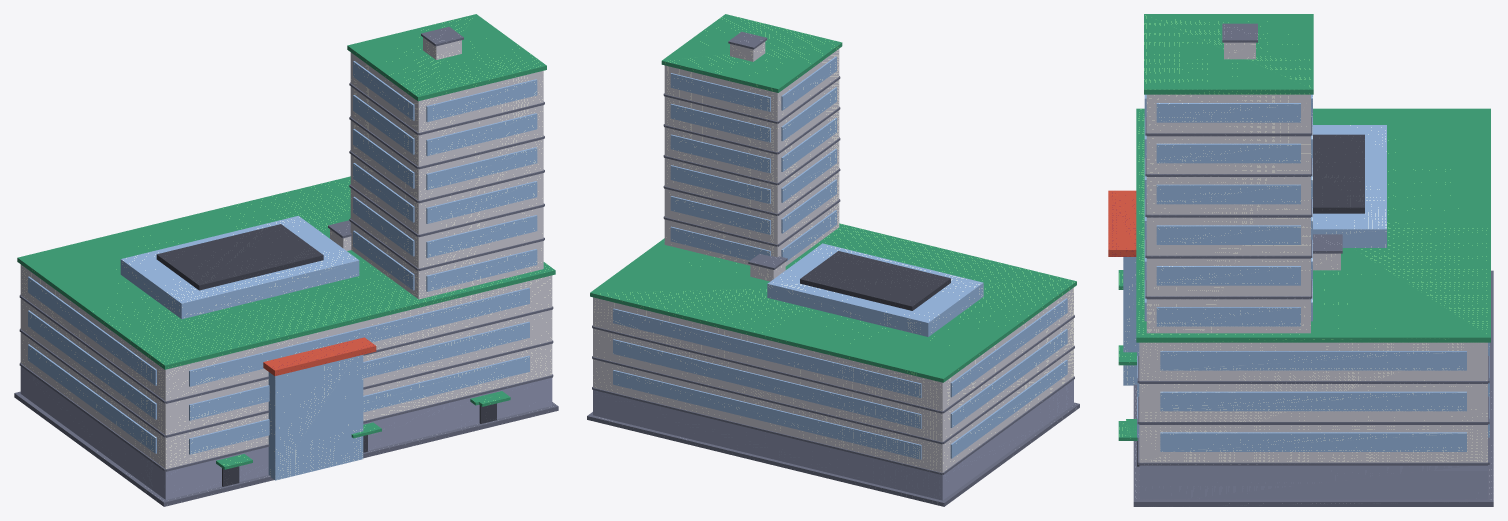
The model's file is mall-3x2-l3.glb.
3 renders of one model, left to right at view 1: azimuth 30°, elevation 25°; view 2: azimuth 150°, elevation 25°; view 3: azimuth 270°, elevation 25°, orthographic. The views are drawn at different scales.
Visible parts, largest first — view 1: mall-3x2-l3; view 2: mall-3x2-l3; view 3: mall-3x2-l3.
Part boxes in pixels (x1=…): mall-3x2-l3: x1=14, y1=14, x2=558, y2=506; mall-3x2-l3: x1=587, y1=14, x2=1079, y2=506; mall-3x2-l3: x1=1108, y1=14, x2=1493, y2=506.
Size of the model in its own units: 5.84 by 5.09 by 4.11.
1 material, 1 textured.
